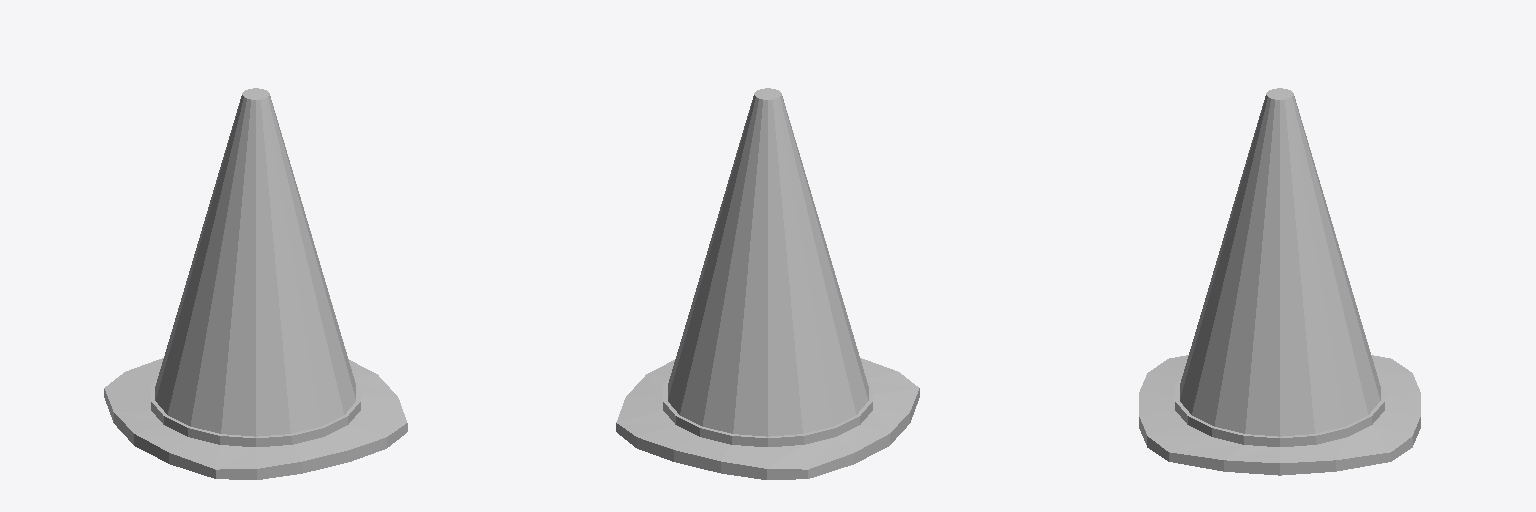
The model's file is int_prop_traffic_cone 1.obj.
3 views of the same model, side by side, from view 1: azimuth 30°, elevation 25°; view 2: azimuth 150°, elevation 25°; view 3: azimuth 270°, elevation 25° (orthographic).
Parts seen in each view (by area): view 1: Cylinder001; view 2: Cylinder001; view 3: Cylinder001.
Boxes of the visible parts, <box> form: Cylinder001: <box>104,88,407,479</box>; Cylinder001: <box>616,88,919,479</box>; Cylinder001: <box>1139,88,1420,475</box>.
Bounding box in the file's own units: 12.38 × 15.75 × 12.42.